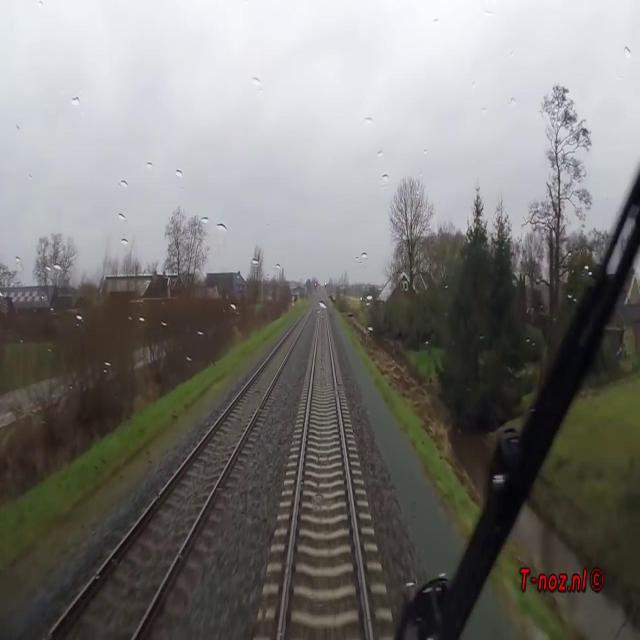rail-track: (48, 303, 313, 639), (280, 295, 368, 639)
